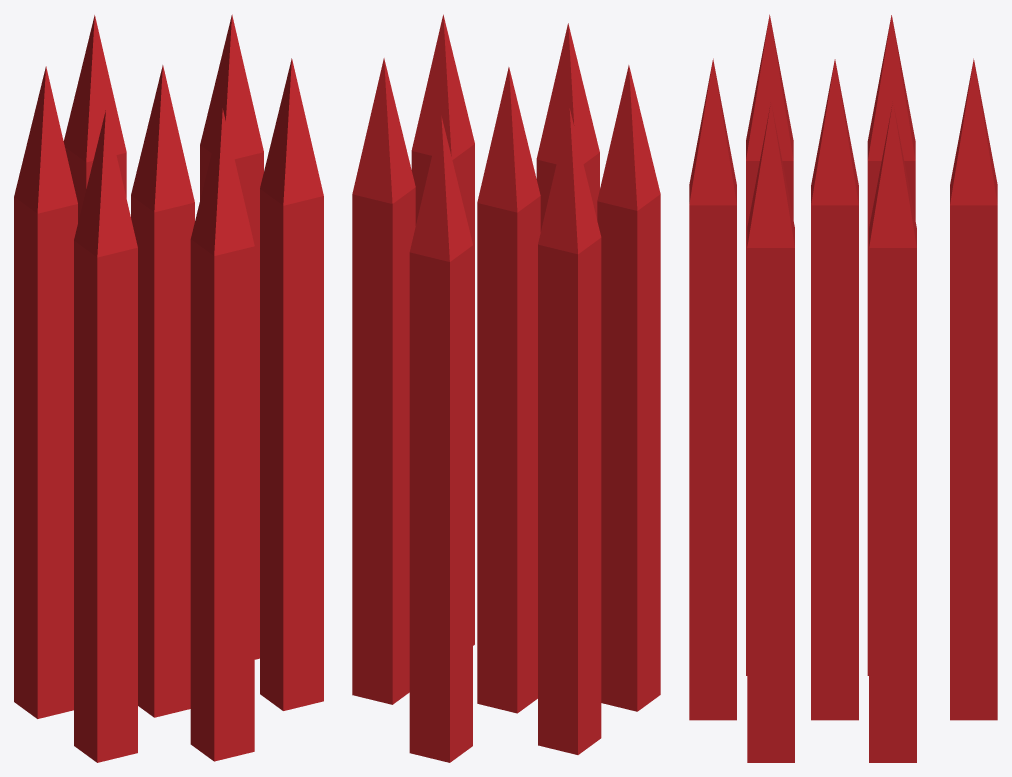
Rendered from duri1.fbx.
3 renders of one model, left to right at view 1: azimuth 30°, elevation 25°; view 2: azimuth 150°, elevation 25°; view 3: azimuth 270°, elevation 25°, orthographic. The views are drawn at different scales.
Visible parts, largest first — view 1: duri.006; view 2: duri.006; view 3: duri.006.
Part boxes in pixels (box(x1,y1,x2,y2)): duri.006: box(14, 14, 323, 762); duri.006: box(352, 14, 660, 762); duri.006: box(689, 14, 997, 762).
Size of the model in its own units: 109 by 295 by 125.
